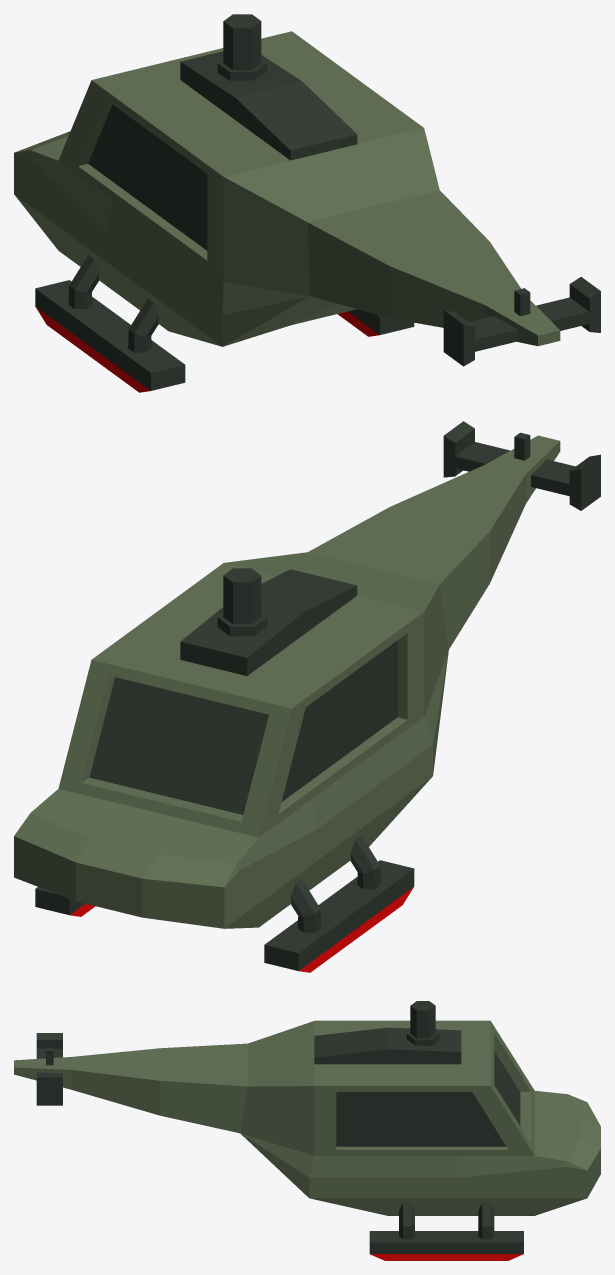
File: HelicopterMain.glb
3 renders of one model, top to bottom at view 1: azimuth 30°, elevation 25°; view 2: azimuth 150°, elevation 25°; view 3: azimuth 270°, elevation 25°, orthographic. The views are drawn at different scales.
Parts seen in each view (by area): view 1: Base; view 2: Base; view 3: Base.
Boxes of the visible parts, x1,y1,x2,y2 form: Base: [14, 14, 600, 392]; Base: [14, 421, 600, 972]; Base: [14, 1001, 600, 1260].
Size of the model in its own units: 4.6 by 5.31 by 13.31.
